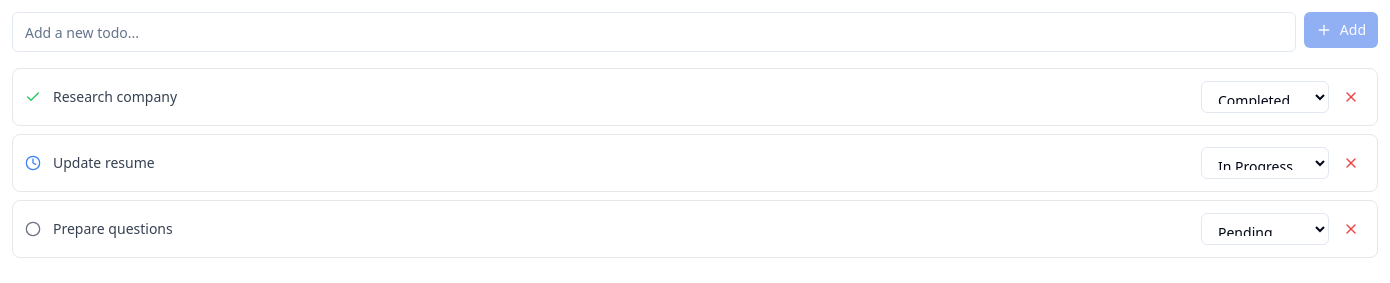
Scenario: TodoList › should cancel editing on Escape key
This screenshot has width=1390, height=283.
Click the text "Research company" at (115, 96), box [53,87,177,106]
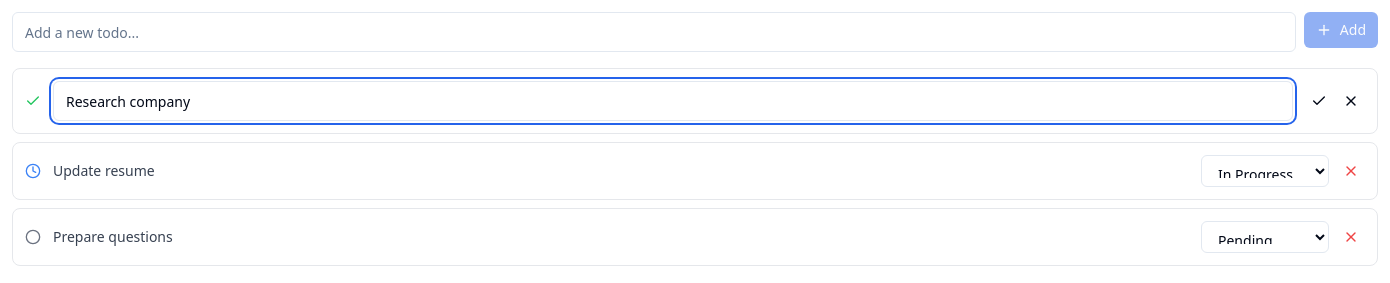
# An input should appear
Replace the text in the field showing "Research company" with "Changed text" at (673, 101), box [53,81,1293,121]
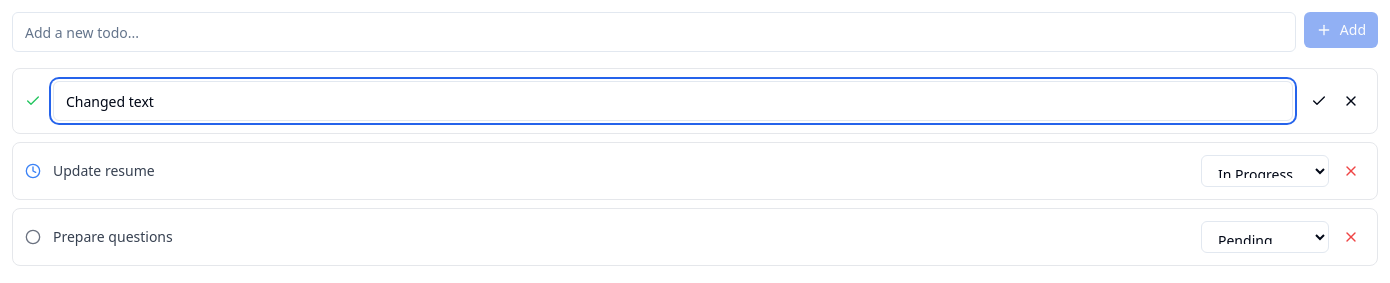
Press Escape in the field showing "Research company", box [53,81,1293,121]
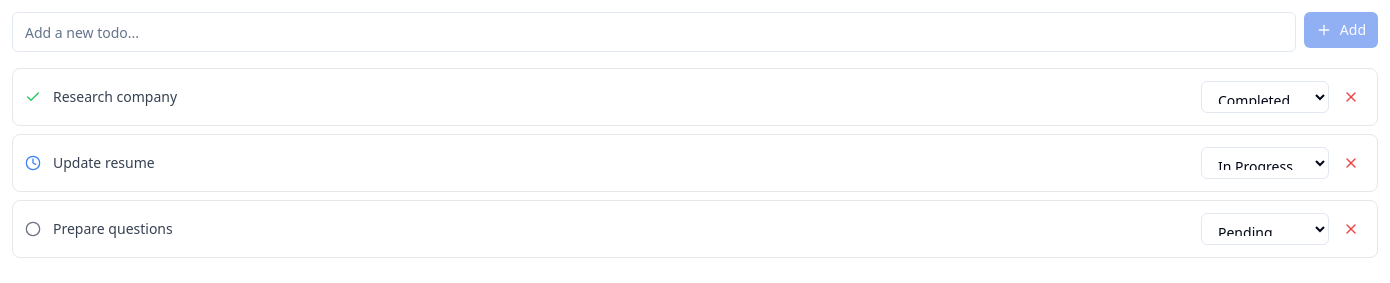
Check: the text "Research company" is shown, box [53,87,177,106]
